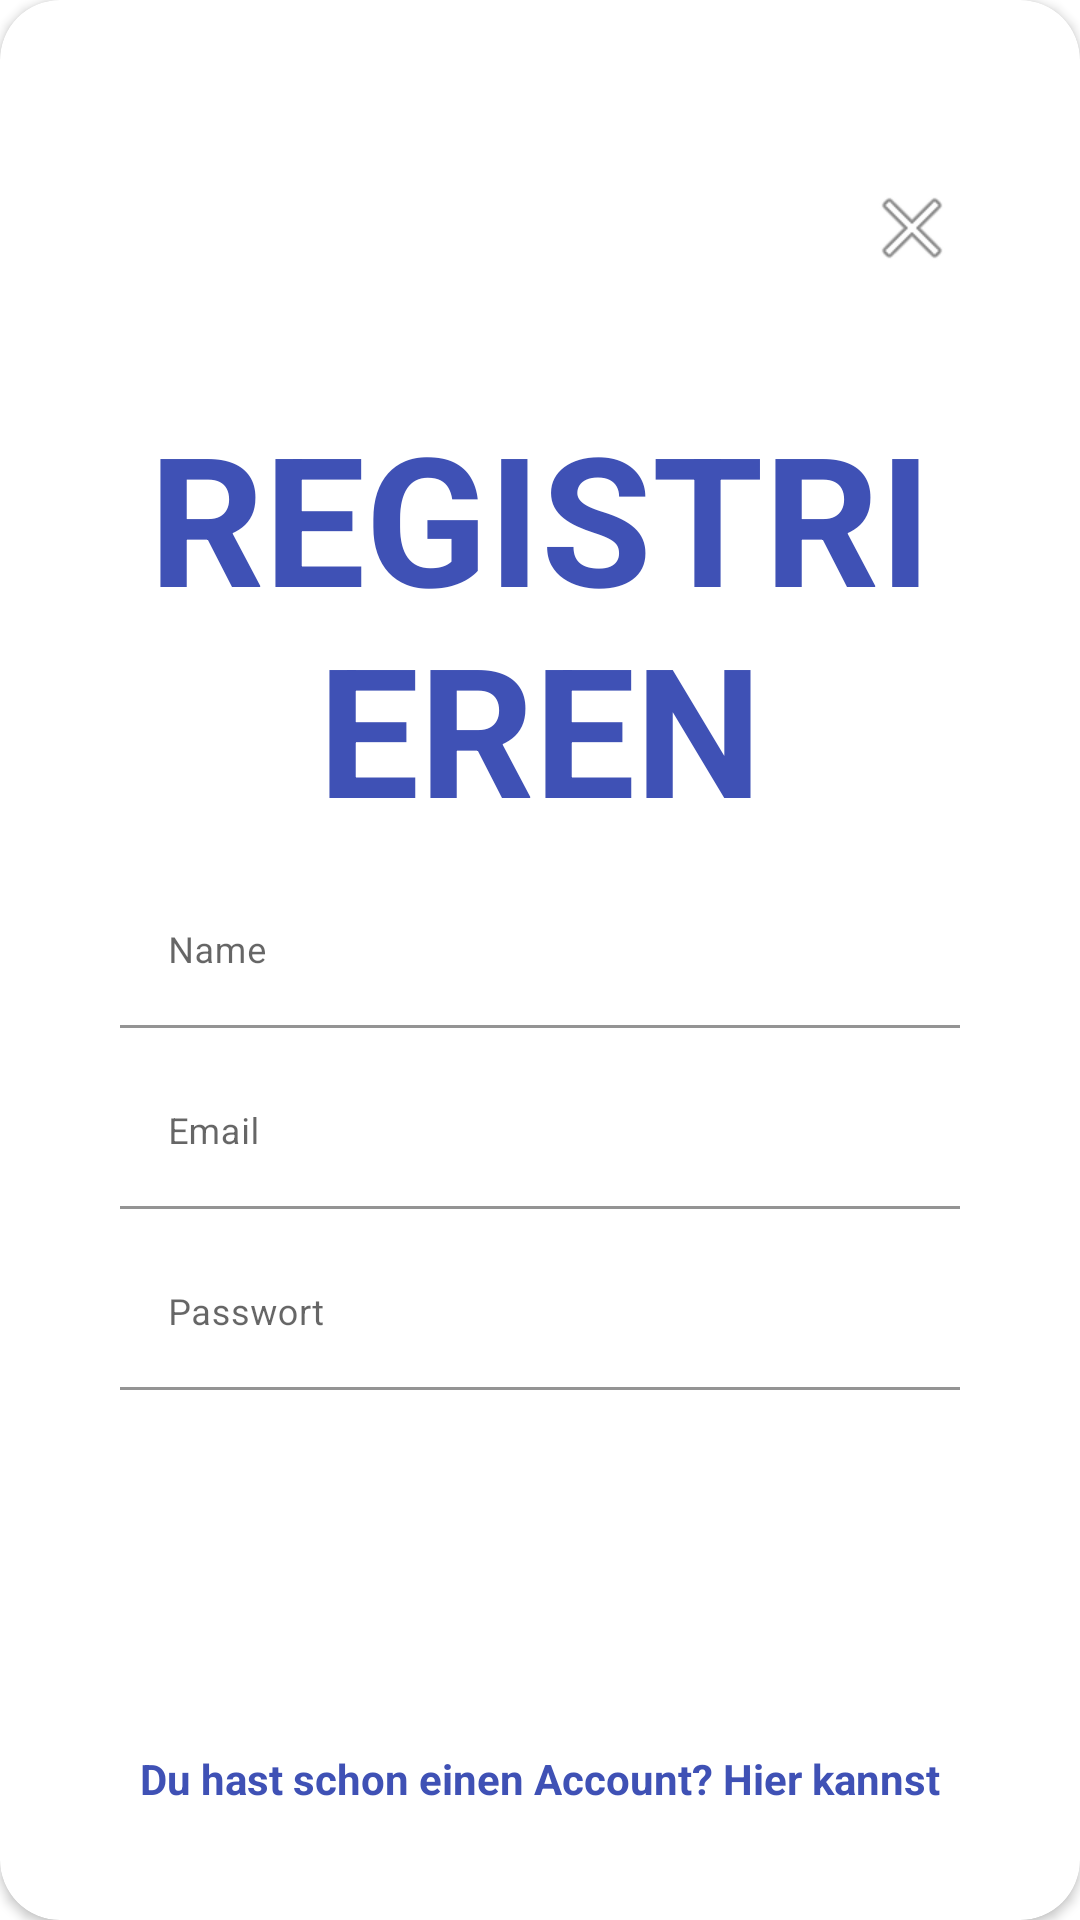

Named icons in this screenshot (1080×1920) and their bounding boxes, bbox(x1, y1, x2, y2):
close clear cancel: bbox(882, 198, 942, 258)
